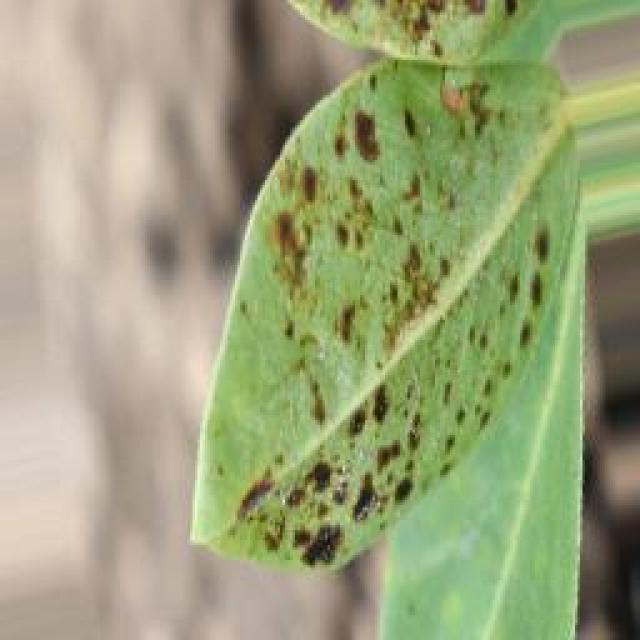Whitefly: (115, 0, 575, 552)
